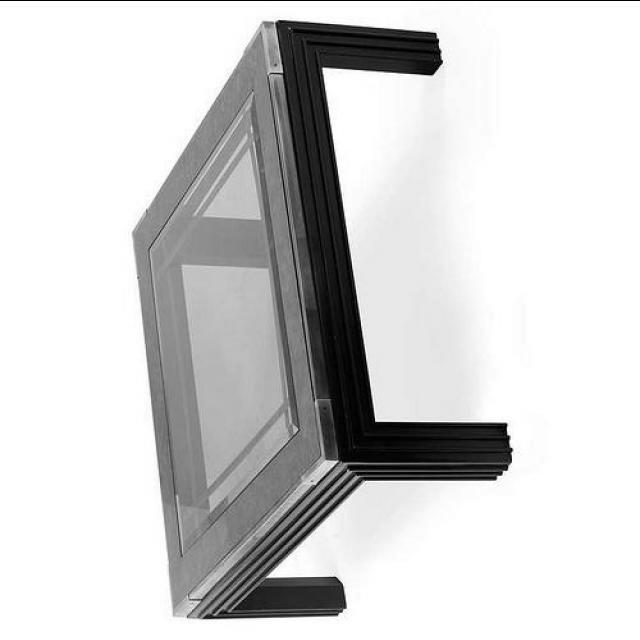table: (130, 20, 512, 618)
